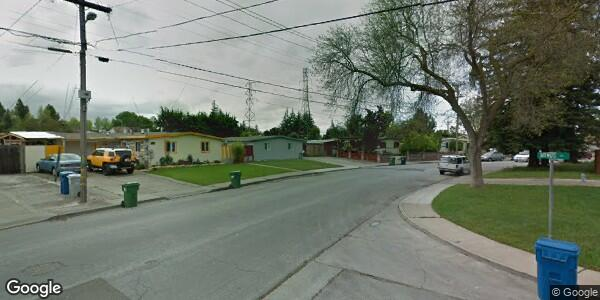Wood_Pole: (58, 1, 113, 203)
